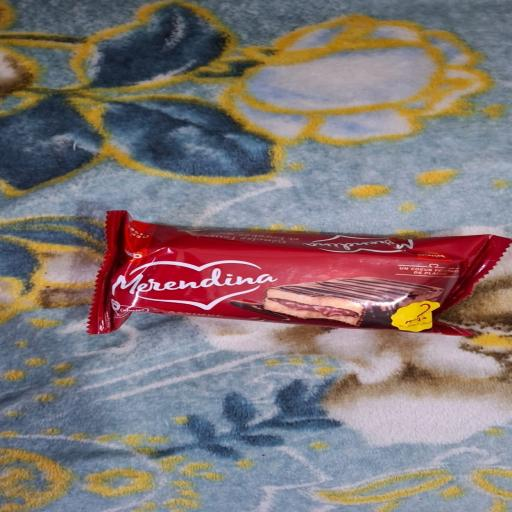merendina: (52, 194, 506, 362)
